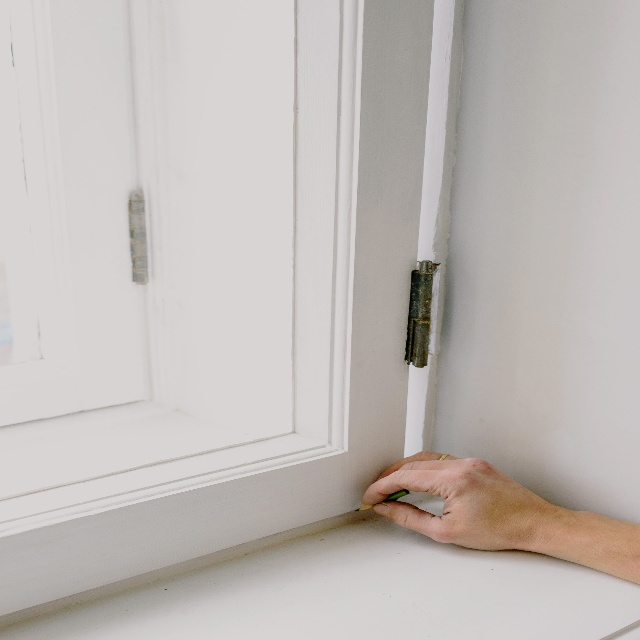Sin_guantes: (361, 445, 544, 556)
